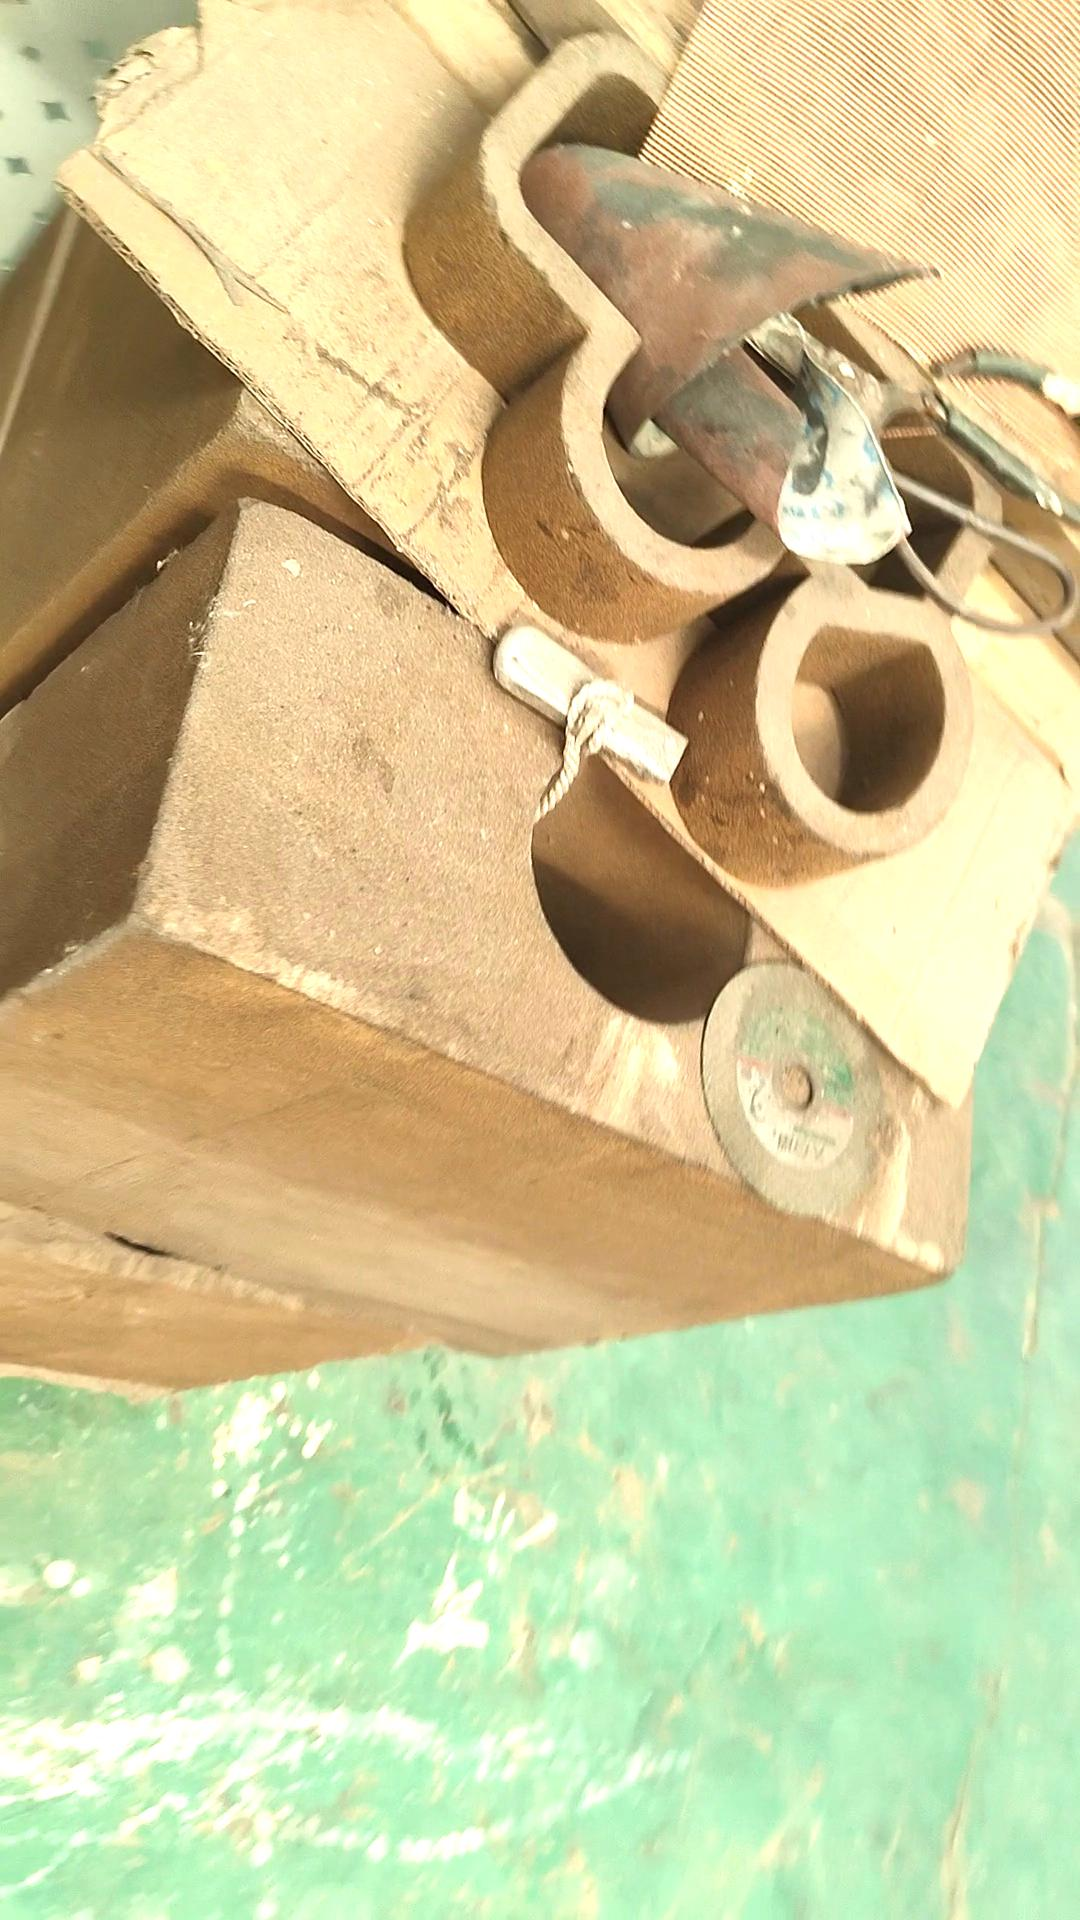pouring hole: (529, 746, 752, 1025)
